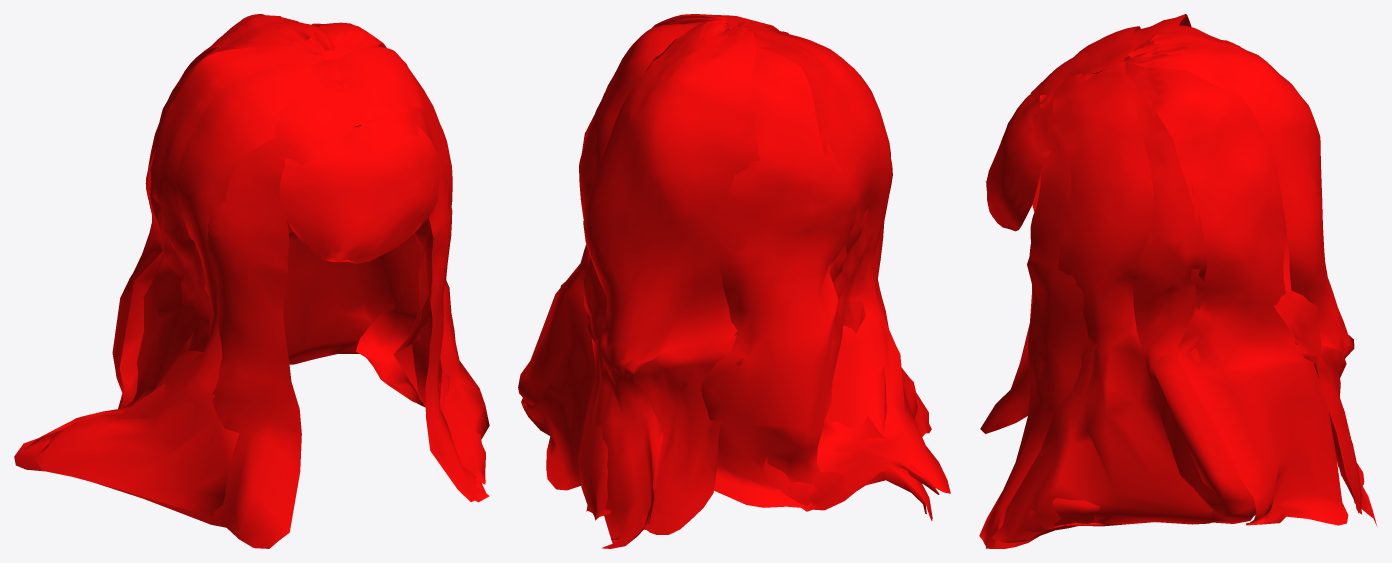
File: sonntag78_junglebook_hair_M.glb
The picture shows the model from 3 angles, left to right: view 1: azimuth 30°, elevation 25°; view 2: azimuth 150°, elevation 25°; view 3: azimuth 270°, elevation 25°; orthographic projection. The views are drawn at different scales.
Bounding box in the file's own units: 0.3338 × 0.3519 × 0.2698.
Materials: 1 (1 with a texture image).
